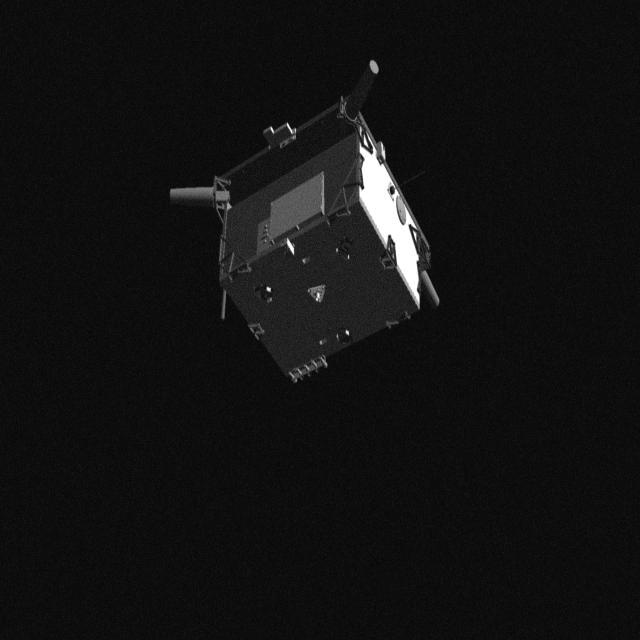medium_debris: (154, 54, 456, 382)
